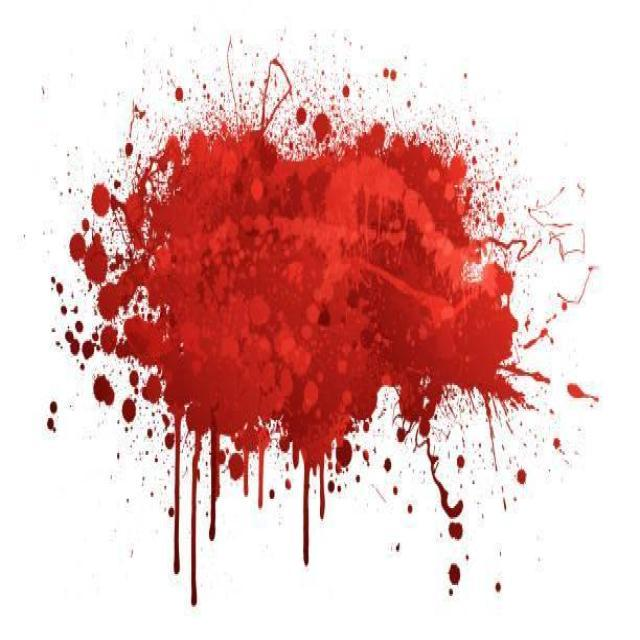flood: (53, 28, 611, 622)
